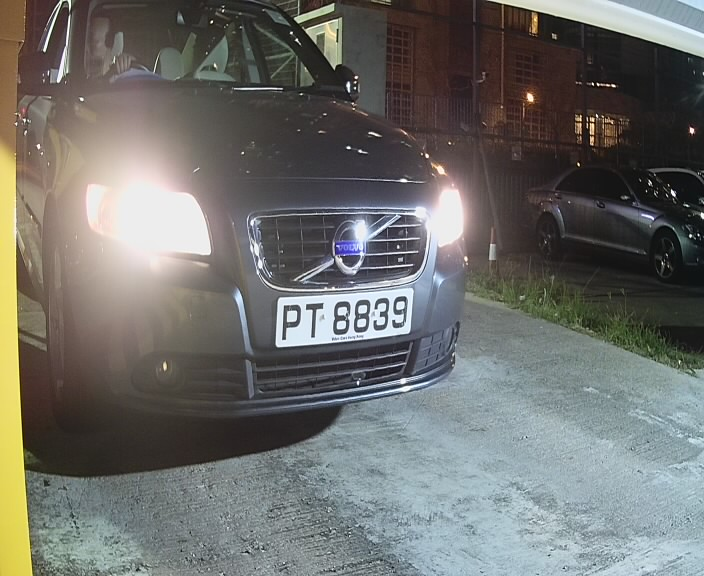Car: (2, 2, 486, 442)
License Plate: (268, 282, 419, 352)
